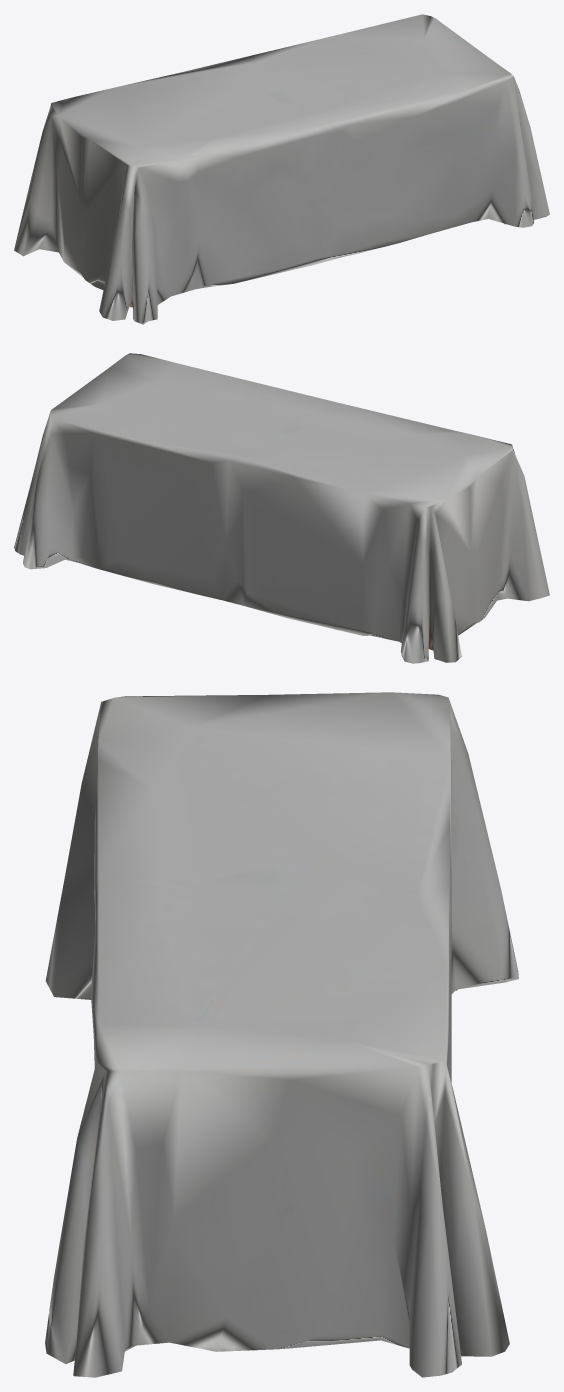
Rendered from meja_putih.glb.
3 renders of one model, top to bottom at view 1: azimuth 30°, elevation 25°; view 2: azimuth 150°, elevation 25°; view 3: azimuth 270°, elevation 25°, orthographic. The views are drawn at different scales.
Visible parts, largest first — view 1: tripo_node_638c48be-5da9-4c48-8f56-d0a9e5f3af4c; view 2: tripo_node_638c48be-5da9-4c48-8f56-d0a9e5f3af4c; view 3: tripo_node_638c48be-5da9-4c48-8f56-d0a9e5f3af4c.
Boxes of the visible parts, x1,y1,x2,y2 form: tripo_node_638c48be-5da9-4c48-8f56-d0a9e5f3af4c: [14, 14, 549, 324]; tripo_node_638c48be-5da9-4c48-8f56-d0a9e5f3af4c: [14, 353, 549, 663]; tripo_node_638c48be-5da9-4c48-8f56-d0a9e5f3af4c: [45, 692, 518, 1377].
Bounding box in the file's own units: 0.9989 × 0.3172 × 0.4609.
Materials: 1 (1 with a texture image).
